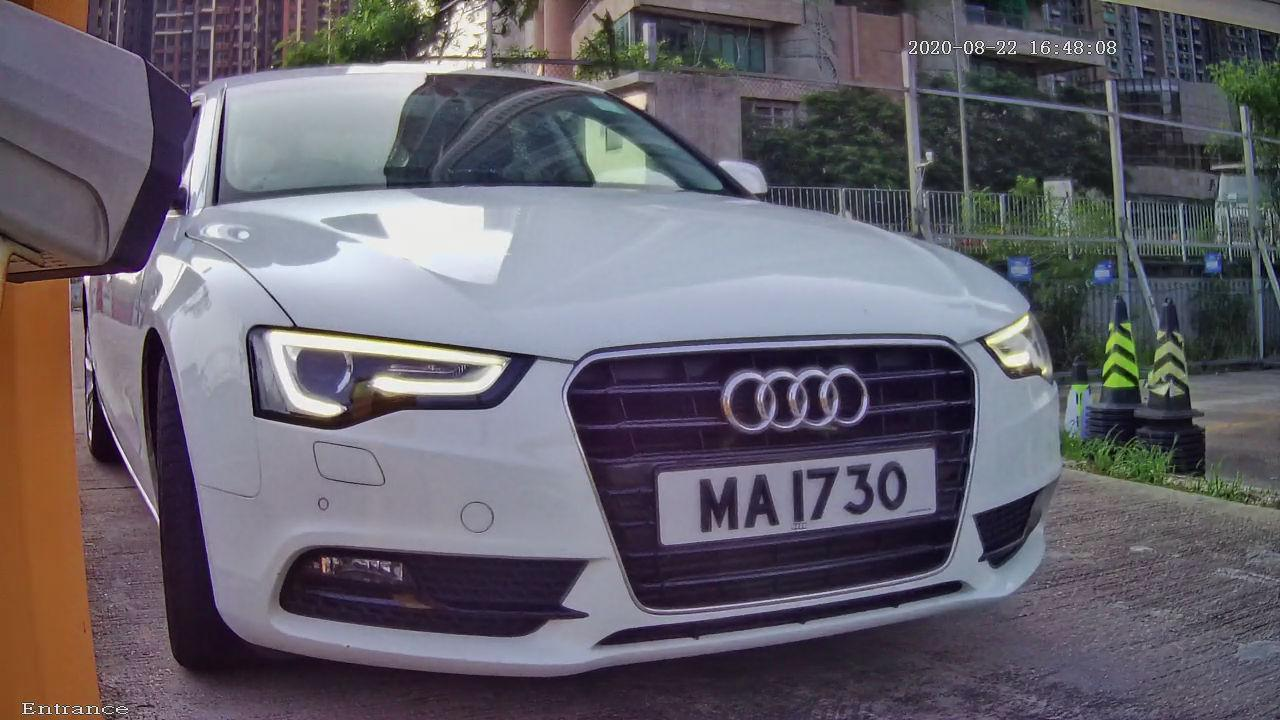Car: (29, 10, 1155, 717)
License Plate: (591, 419, 998, 590)
